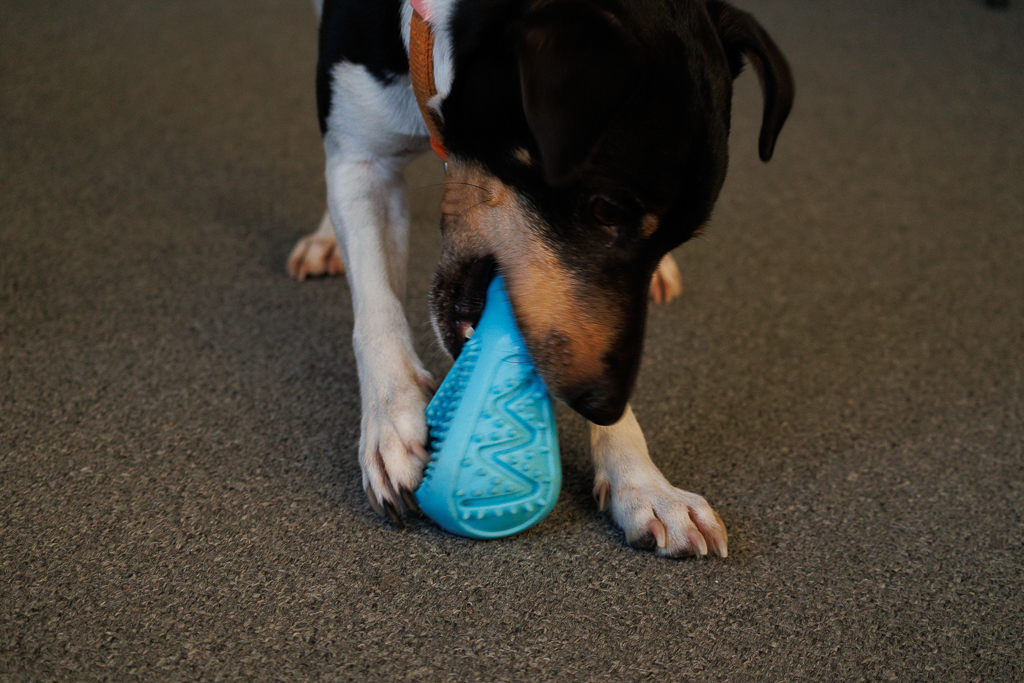Dog: (277, 0, 807, 572)
